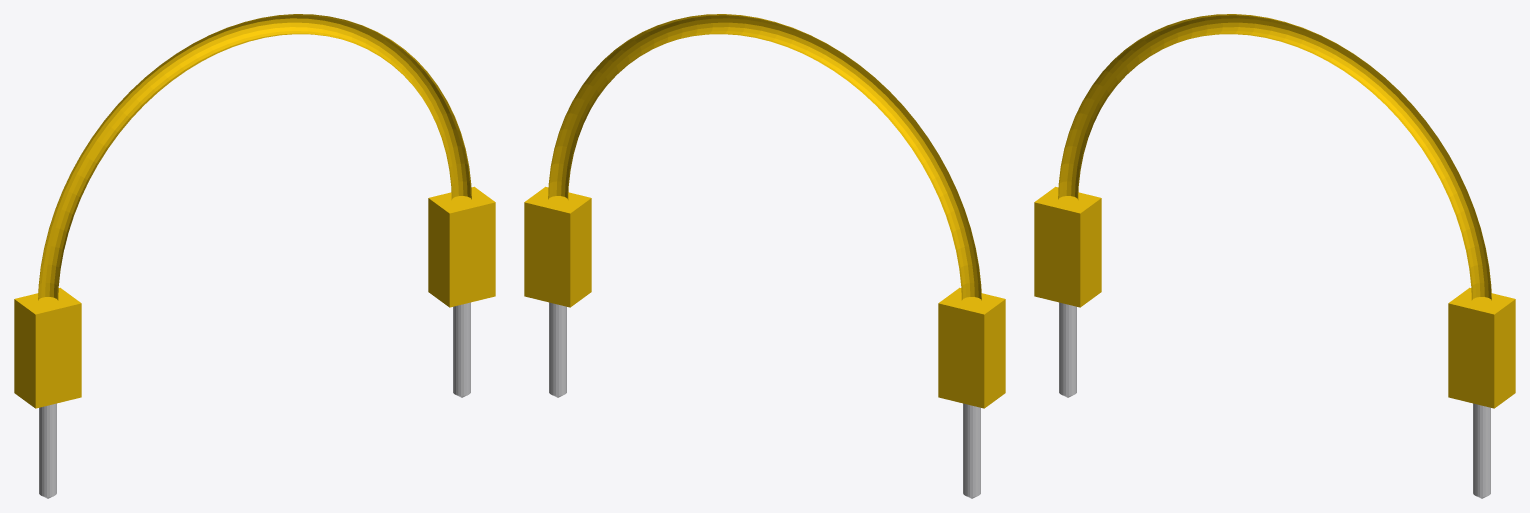
Rendered from cable_parche_amarillo.glb.
3 views of the same model, side by side, from view 1: azimuth 30°, elevation 25°; view 2: azimuth 150°, elevation 25°; view 3: azimuth 330°, elevation 25° (orthographic).
Visible parts, largest first — view 1: Cable_Arco, Cuerpo_Plug_Izq, Cuerpo_Plug_Der, Pin_Izq, Pin_Der; view 2: Cable_Arco, Cuerpo_Plug_Izq, Cuerpo_Plug_Der, Pin_Izq, Pin_Der; view 3: Cable_Arco, Cuerpo_Plug_Izq, Cuerpo_Plug_Der, Pin_Izq, Pin_Der.
Part boxes in pixels (x1,y1,x2,y2): Cable_Arco: (38,14,471,300); Cuerpo_Plug_Izq: (14,287,81,408); Cuerpo_Plug_Der: (428,186,495,307); Pin_Izq: (39,403,56,498); Pin_Der: (453,302,470,397); Cable_Arco: (548,14,981,300); Cuerpo_Plug_Izq: (938,287,1005,408); Cuerpo_Plug_Der: (524,186,591,307); Pin_Izq: (963,403,980,498); Pin_Der: (549,302,566,397); Cable_Arco: (1058,14,1491,300); Cuerpo_Plug_Izq: (1034,186,1101,307); Cuerpo_Plug_Der: (1448,287,1515,408); Pin_Izq: (1059,302,1076,397); Pin_Der: (1473,403,1490,498).
Size of the model in its own units: 0.0998 by 0.0887 by 0.008.
